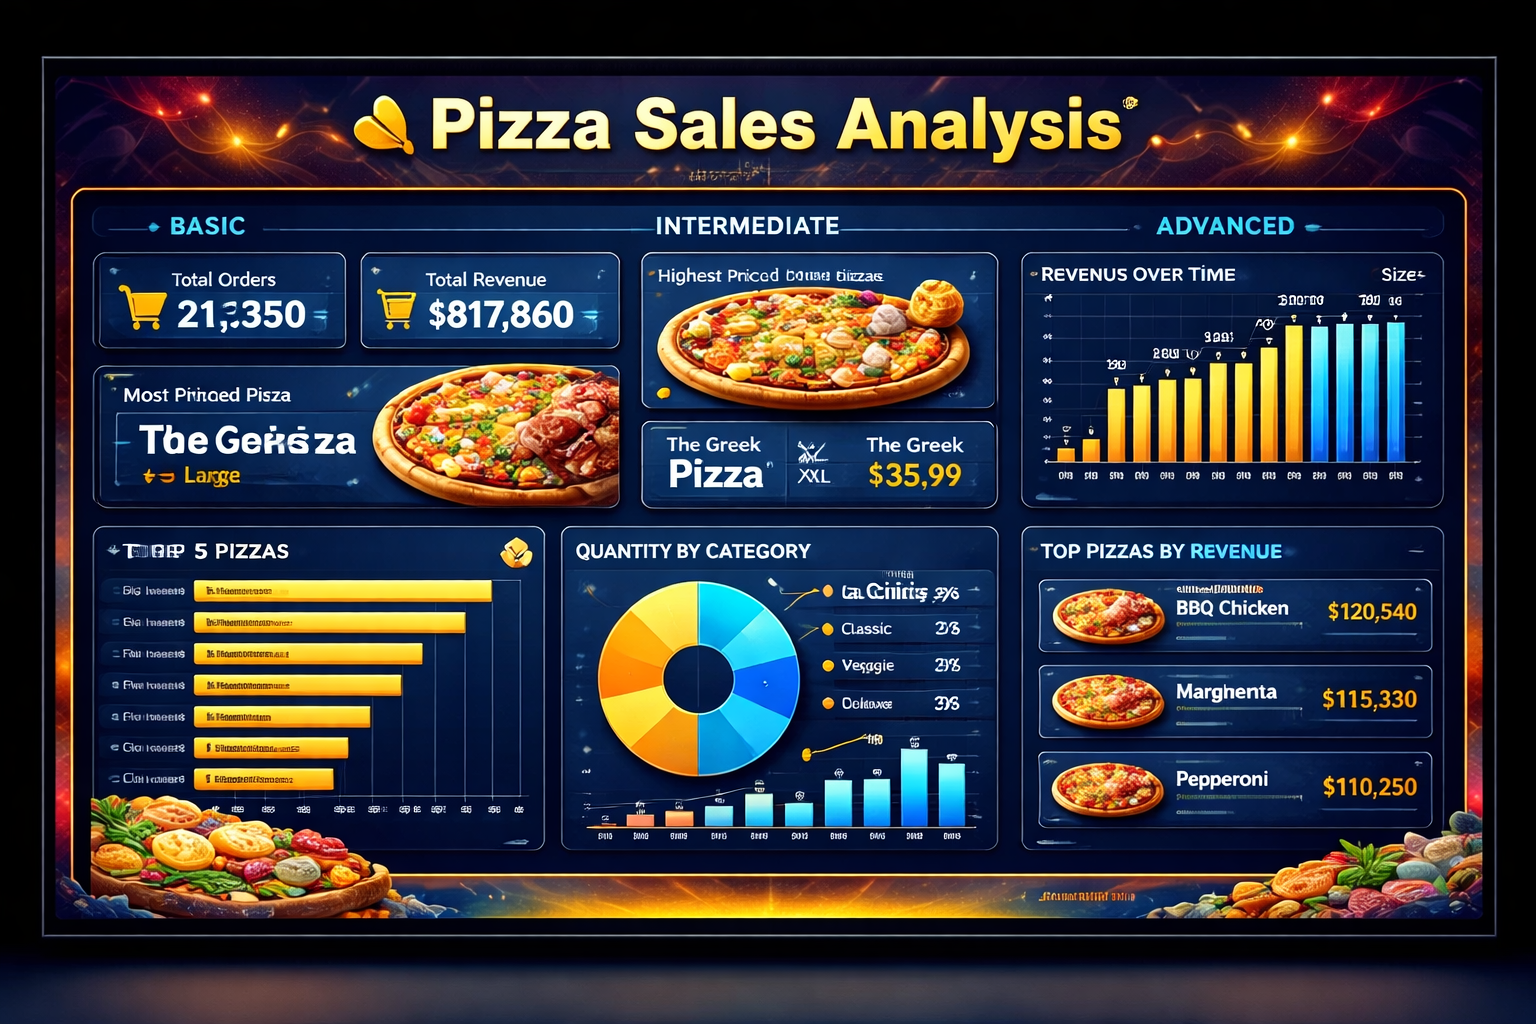

The page's visual inventory and layout, read from the dashboard file:
{"tool":"powerbi","page":{"name":"Page 1","canvas":[1280,720],"ordinal":0},"visuals":[{"type":"shape","box":[29.1,4.7,1218.6,59.3],"z":0},{"type":"cardVisual","fields":{"Data":["For_Measures.Total Revenue","For_Measures.Total Orders","For_Measures.Total Quantity","For_Measures.Avg Order Value"]},"box":[0,64,1280.2,103.5],"z":1000},{"type":"lineChart","fields":{"Category":["Date Table.Month"],"Y":["For_Measures.Total Revenue"]},"box":[333.7,167.4,520.9,265.1],"z":2000},{"type":"donutChart","fields":{"Category":["pz pizza_types.category"],"Y":["For_Measures.Total Revenue"]},"box":[867.4,443,380.2,265.1],"z":3000},{"type":"barChart","fields":{"Category":["pz pizzas.size"],"Y":["For_Measures.Total Quantity"]},"box":[867.4,167.4,380.2,265.1],"z":4000},{"type":"barChart","fields":{"Category":["pz pizza_types.name"],"Y":["For_Measures.Total Revenue"]},"box":[333.7,443,520.9,265.1],"z":5000},{"type":"slicer","title":"Dates","fields":{"Values":["Date Table.Date"]},"box":[29.1,270.9,294.2,75.6],"z":6000},{"type":"slicer","title":"PizzasCategoryWise","fields":{"Values":["pz pizza_types.category"]},"box":[29.1,354.7,294.2,157],"z":7000},{"type":"slicer","title":"PizaasSizeWise","fields":{"Values":["pz pizzas.size"]},"box":[29.1,522.1,294.2,186],"z":8000},{"type":"image","box":[28.8,167.5,293.8,93.8],"z":9000},{"type":"textbox","box":[28.8,8.8,1218.8,55.3],"z":9001}]}

Visuals, with their boxes on the page's 1280x720 design canvas (x1, y1, x2, y2). These are canvas units, not pixel positions in the 1536x1024 screenshot, which may show the page scaled, cropped or inside an application window:
shape: {"x1": 29, "y1": 5, "x2": 1248, "y2": 64}
cardVisual - For_Measures.Total Revenue x For_Measures.Total Orders: {"x1": 0, "y1": 64, "x2": 1280, "y2": 168}
lineChart - Date Table.Month x For_Measures.Total Revenue: {"x1": 334, "y1": 167, "x2": 855, "y2": 432}
donutChart - pz pizza_types.category x For_Measures.Total Revenue: {"x1": 867, "y1": 443, "x2": 1248, "y2": 708}
barChart - pz pizzas.size x For_Measures.Total Quantity: {"x1": 867, "y1": 167, "x2": 1248, "y2": 432}
barChart - pz pizza_types.name x For_Measures.Total Revenue: {"x1": 334, "y1": 443, "x2": 855, "y2": 708}
"Dates" slicer: {"x1": 29, "y1": 271, "x2": 323, "y2": 346}
"PizzasCategoryWise" slicer: {"x1": 29, "y1": 355, "x2": 323, "y2": 512}
"PizaasSizeWise" slicer: {"x1": 29, "y1": 522, "x2": 323, "y2": 708}
image: {"x1": 29, "y1": 168, "x2": 323, "y2": 261}
textbox: {"x1": 29, "y1": 9, "x2": 1248, "y2": 64}
